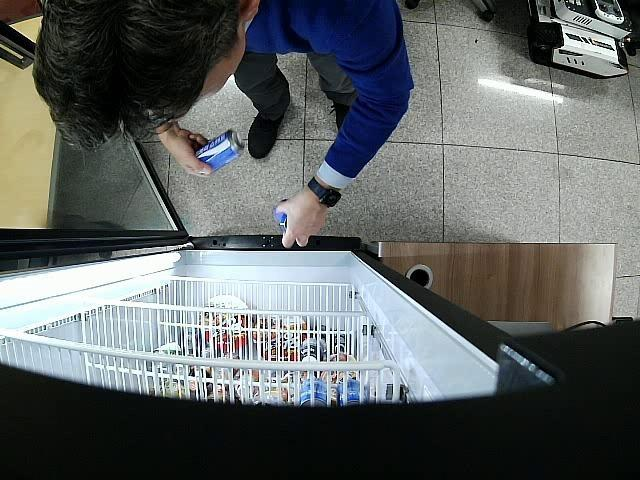13_pocariSweat: (195, 129, 245, 171), (272, 200, 288, 230)
